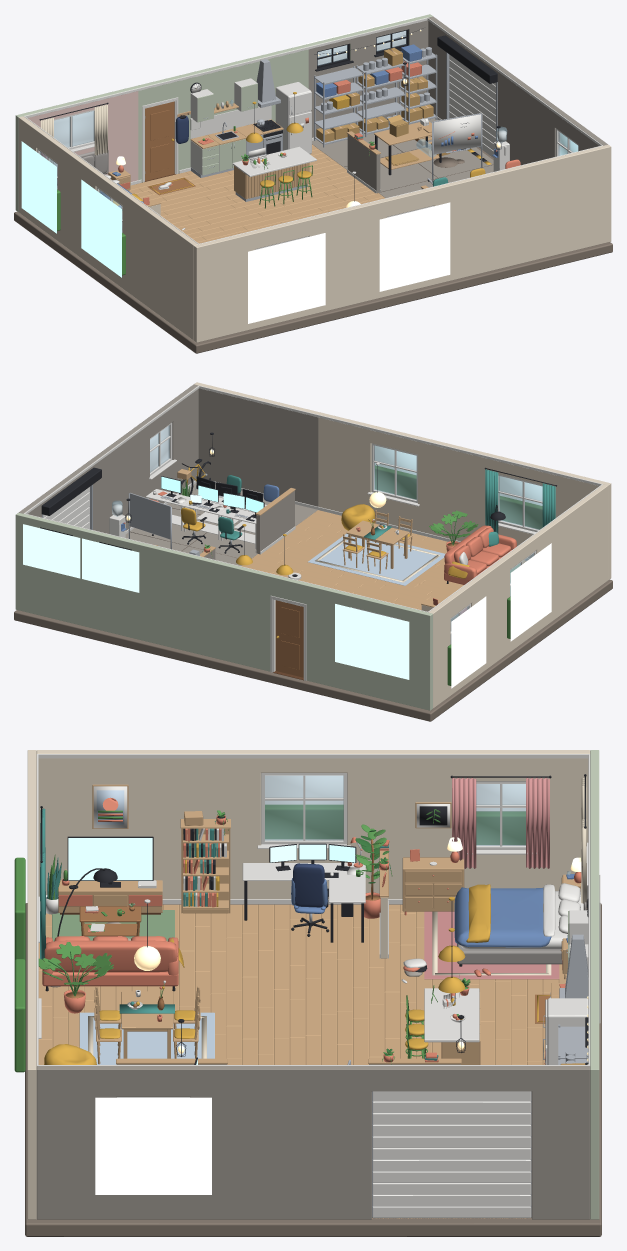
The model's file is tier4.glb.
3 views of the same model, one above another, from view 1: azimuth 30°, elevation 25°; view 2: azimuth 150°, elevation 25°; view 3: azimuth 270°, elevation 25° (orthographic). The views are drawn at different scales.
Visible parts, largest first — view 1: wall_s, wall_w, wall_s_decor_mesh, floor, garage_mesh, wall_n_decor_mesh, wall_n_trim, slab, wall_e, wall_n, wall_w_decor_mesh, kitchen_fridge_mesh (+11 smaller); view 2: wall_n, wall_s, wall_s_trim, wall_w, wall_n_decor_mesh, wall_e, floor, slab, floor_decor_mesh, wall_s_decor_mesh, wall_w_decor_mesh, wall_e_decor_mesh (+15 smaller); view 3: wall_e, floor, wall_w, wall_e_decor_mesh, wall_w_decor_mesh, slab, living_wall_mesh, floor_decor_mesh, bed_mesh, computer_mesh, sofa_mesh, island_mesh (+20 smaller).
Boxes of the visible parts, x1,y1,x2,y2 form: wall_s: (194,144,611,342); wall_w: (18,116,198,340); wall_s_decor_mesh: (248,202,450,323); floor: (129,144,385,243); garage_mesh: (314,44,437,147); wall_n_decor_mesh: (39,17,423,163); wall_n_trim: (24,17,428,185); slab: (14,147,612,353); wall_e: (428,16,607,165); wall_n: (15,14,432,211); wall_w_decor_mesh: (21,141,125,277); kitchen_fridge_mesh: (190,82,311,177); wall_n: (15,512,432,710); wall_s: (194,382,611,579); wall_s_trim: (198,385,602,560); wall_w: (428,484,608,708); wall_n_decor_mesh: (23,524,409,679); wall_e: (19,384,198,533); floor: (241,510,526,610); slab: (14,579,612,721); floor_decor_mesh: (125,483,519,595); wall_s_decor_mesh: (367,443,556,534); wall_w_decor_mesh: (447,543,551,688); wall_e_decor_mesh: (41,422,176,529); wall_e: (36,1066,590,1219); floor: (38,904,566,1218); wall_w: (36,750,590,899); wall_e_decor_mesh: (95,1091,531,1217); wall_w_decor_mesh: (92,773,551,868); slab: (25,903,601,1236); living_wall_mesh: (46,810,230,914); floor_decor_mesh: (52,910,559,1064); bed_mesh: (454,883,588,966); computer_mesh: (242,837,365,942); sofa_mesh: (42,868,184,991); island_mesh: (405,975,480,1064).
Bounding box in the file's own units: 12.74 × 3 × 9.74.
